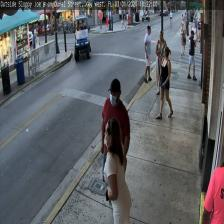person: (101, 78, 130, 208), (103, 117, 132, 223), (155, 46, 173, 118), (155, 30, 167, 94)
